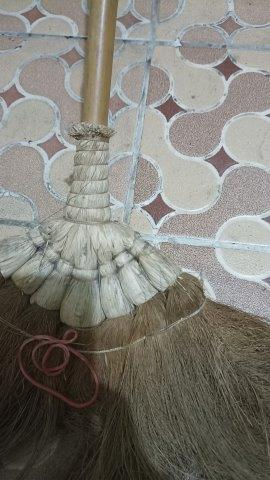karet: (19, 329, 100, 407)
